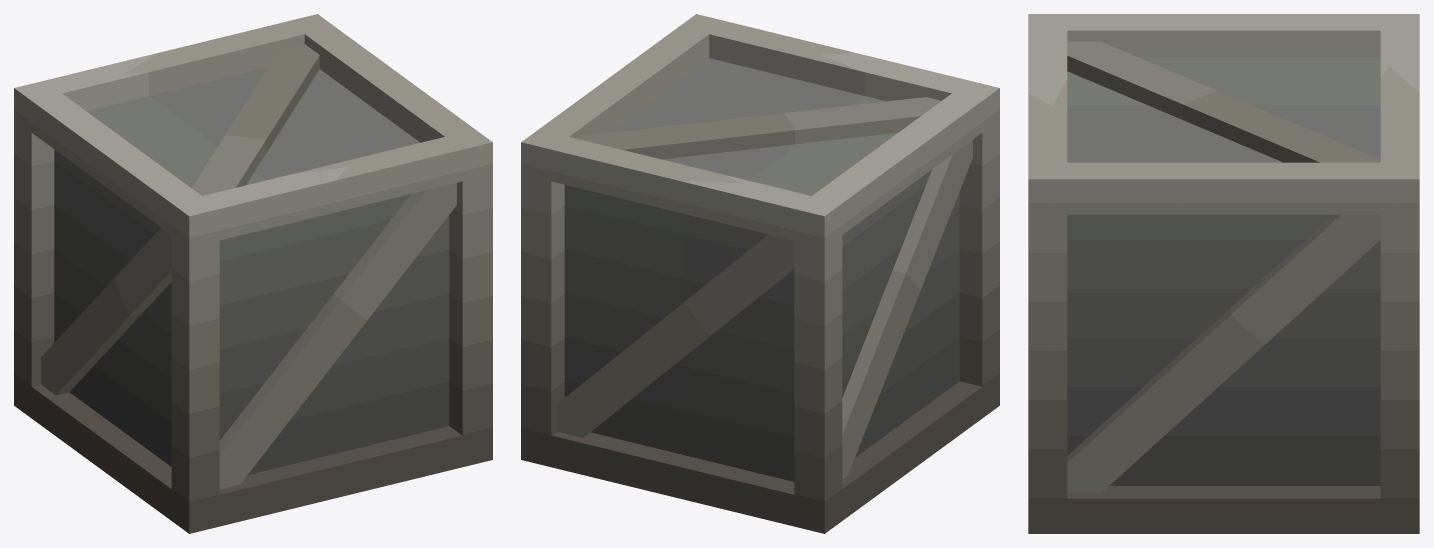
Rendered from DL_Obj_Level3_CrateMetal2.fbx.
3 renders of one model, left to right at view 1: azimuth 30°, elevation 25°; view 2: azimuth 150°, elevation 25°; view 3: azimuth 270°, elevation 25°, orthographic. The views are drawn at different scales.
Parts seen in each view (by area): view 1: Level3_CrateMetal2; view 2: Level3_CrateMetal2; view 3: Level3_CrateMetal2.
Part boxes in pixels (left/top/right/bottom): Level3_CrateMetal2: left=14, top=14, right=492, bottom=533; Level3_CrateMetal2: left=521, top=14, right=999, bottom=533; Level3_CrateMetal2: left=1028, top=14, right=1419, bottom=533.
Bounding box in the file's own units: 100 × 100 × 100.
